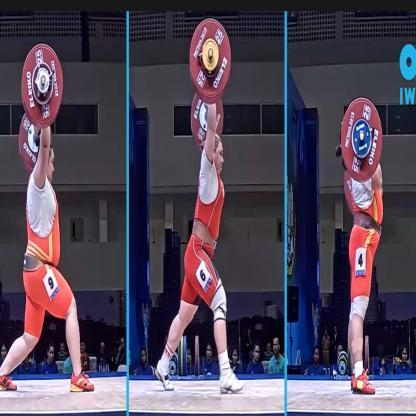barbell: (16, 43, 65, 177), (188, 19, 232, 148), (338, 96, 384, 182)
